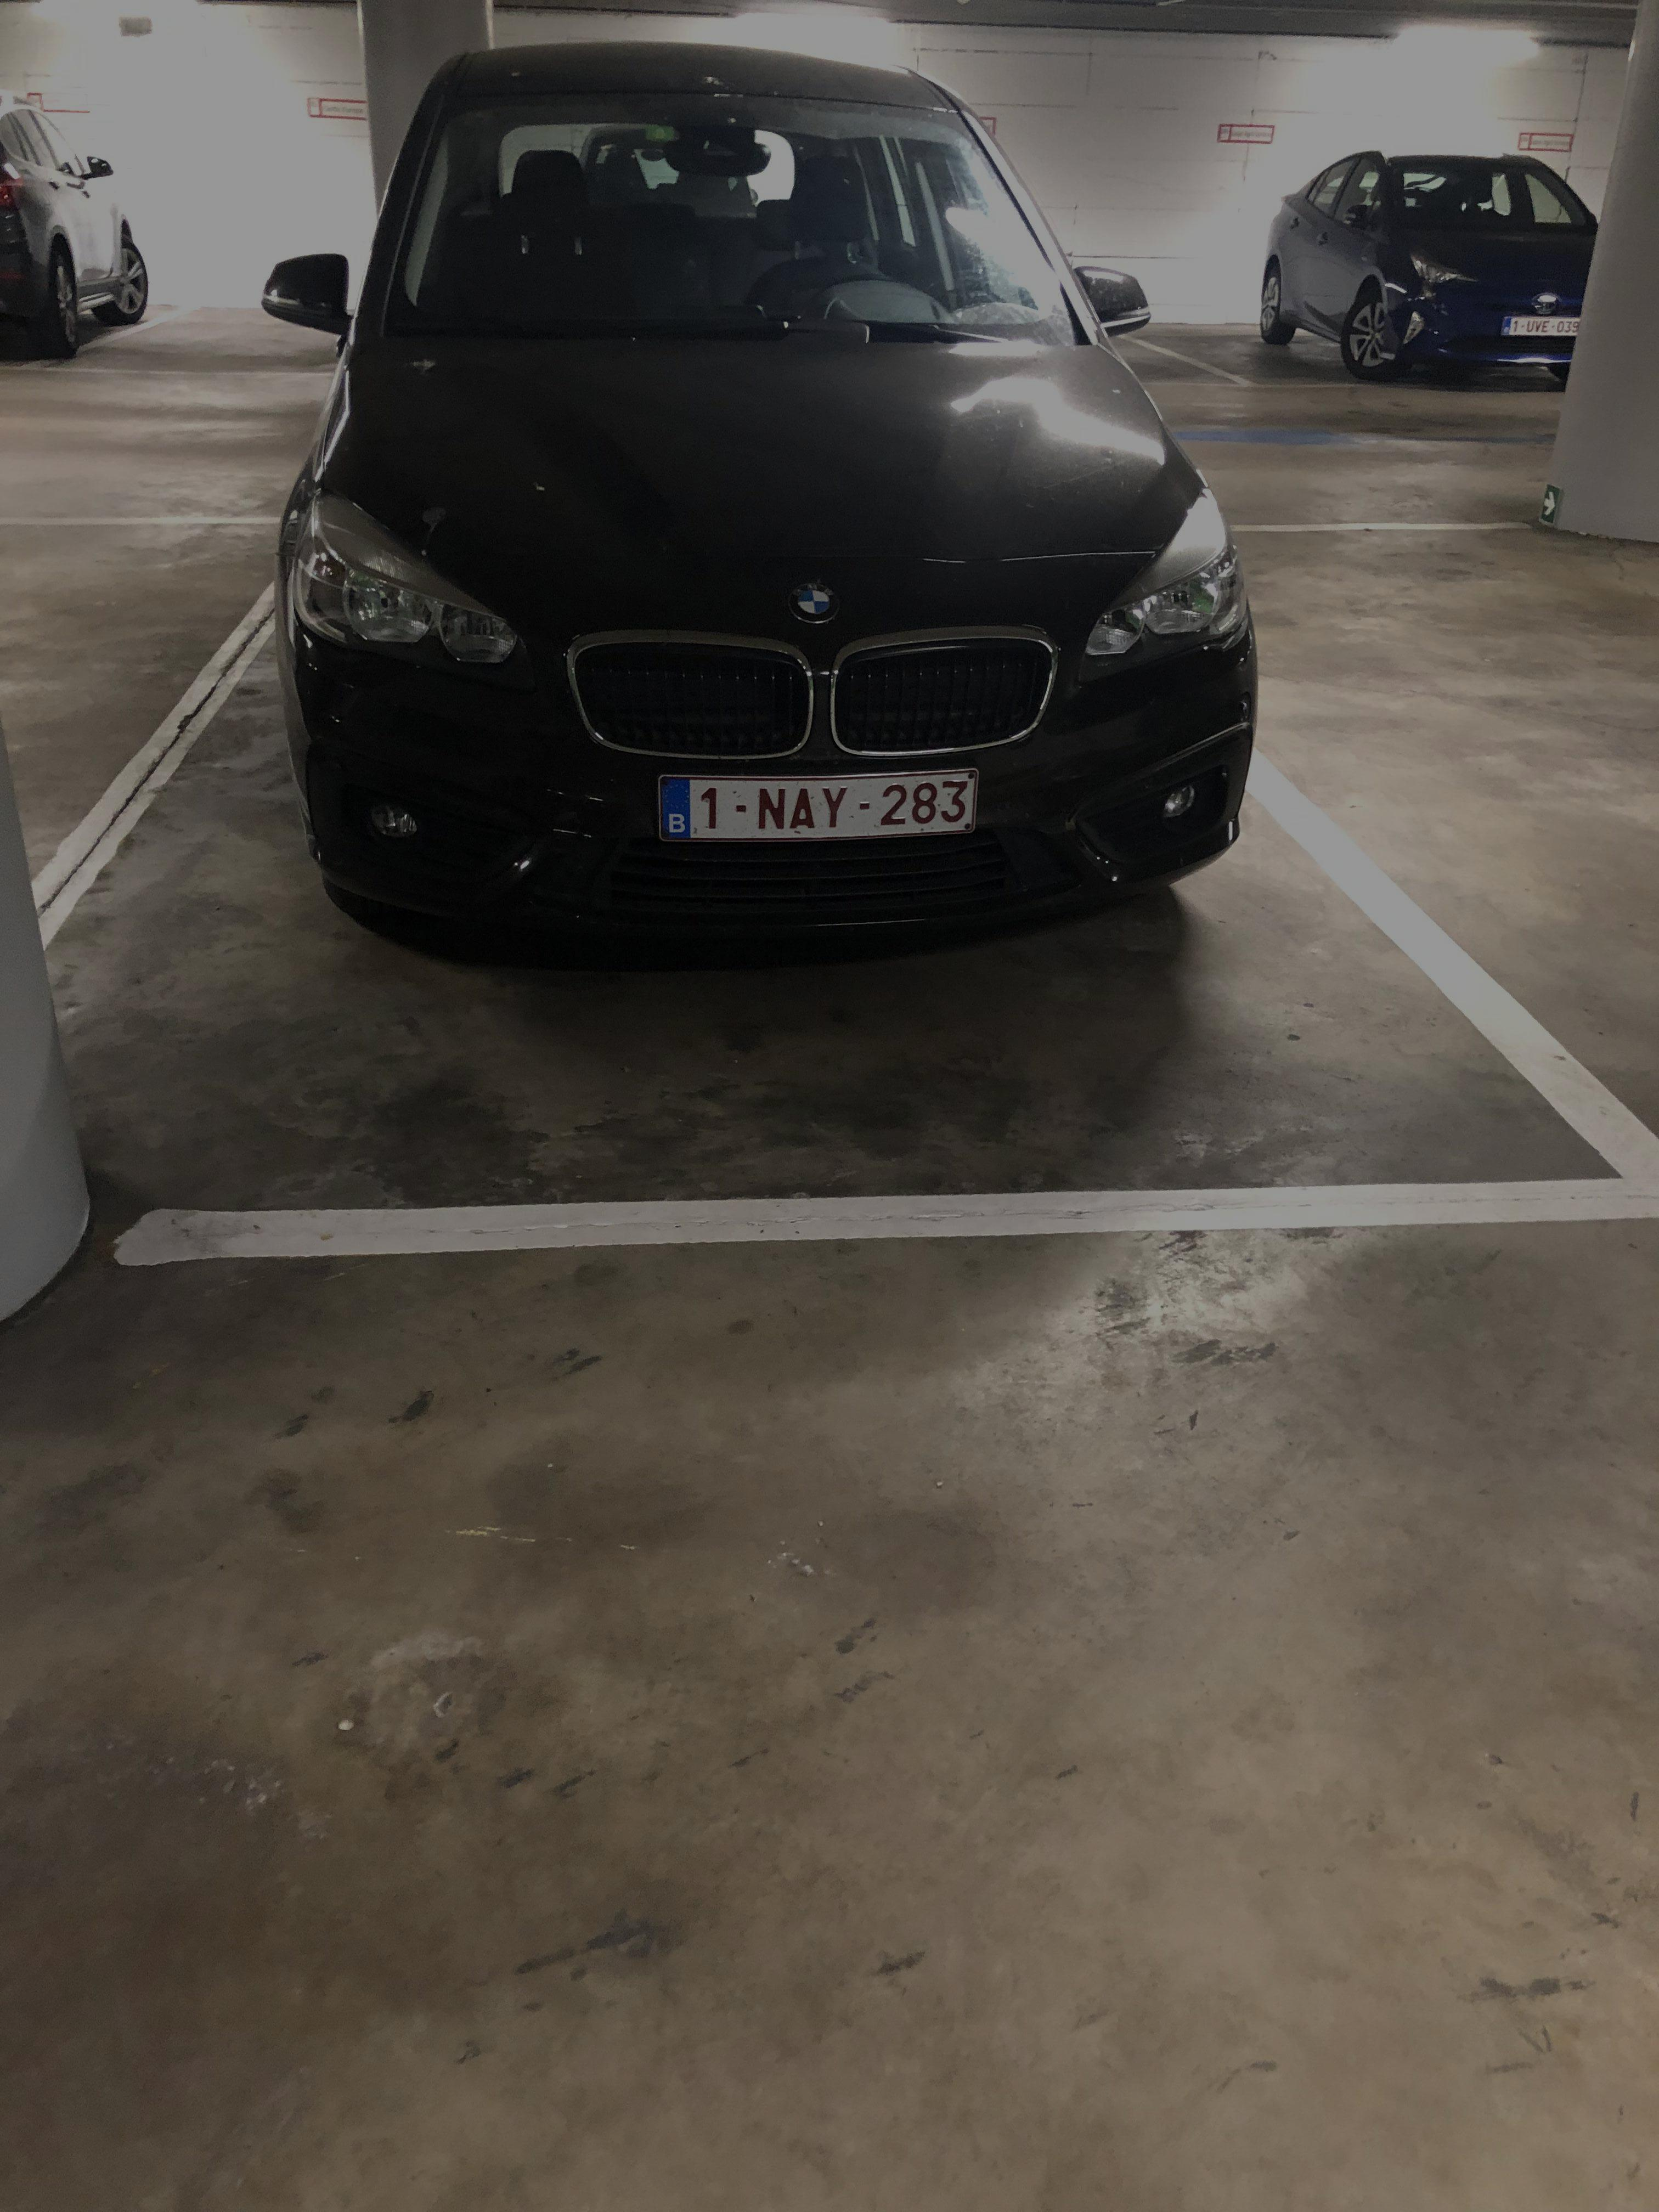plate: (636, 759, 992, 849)
